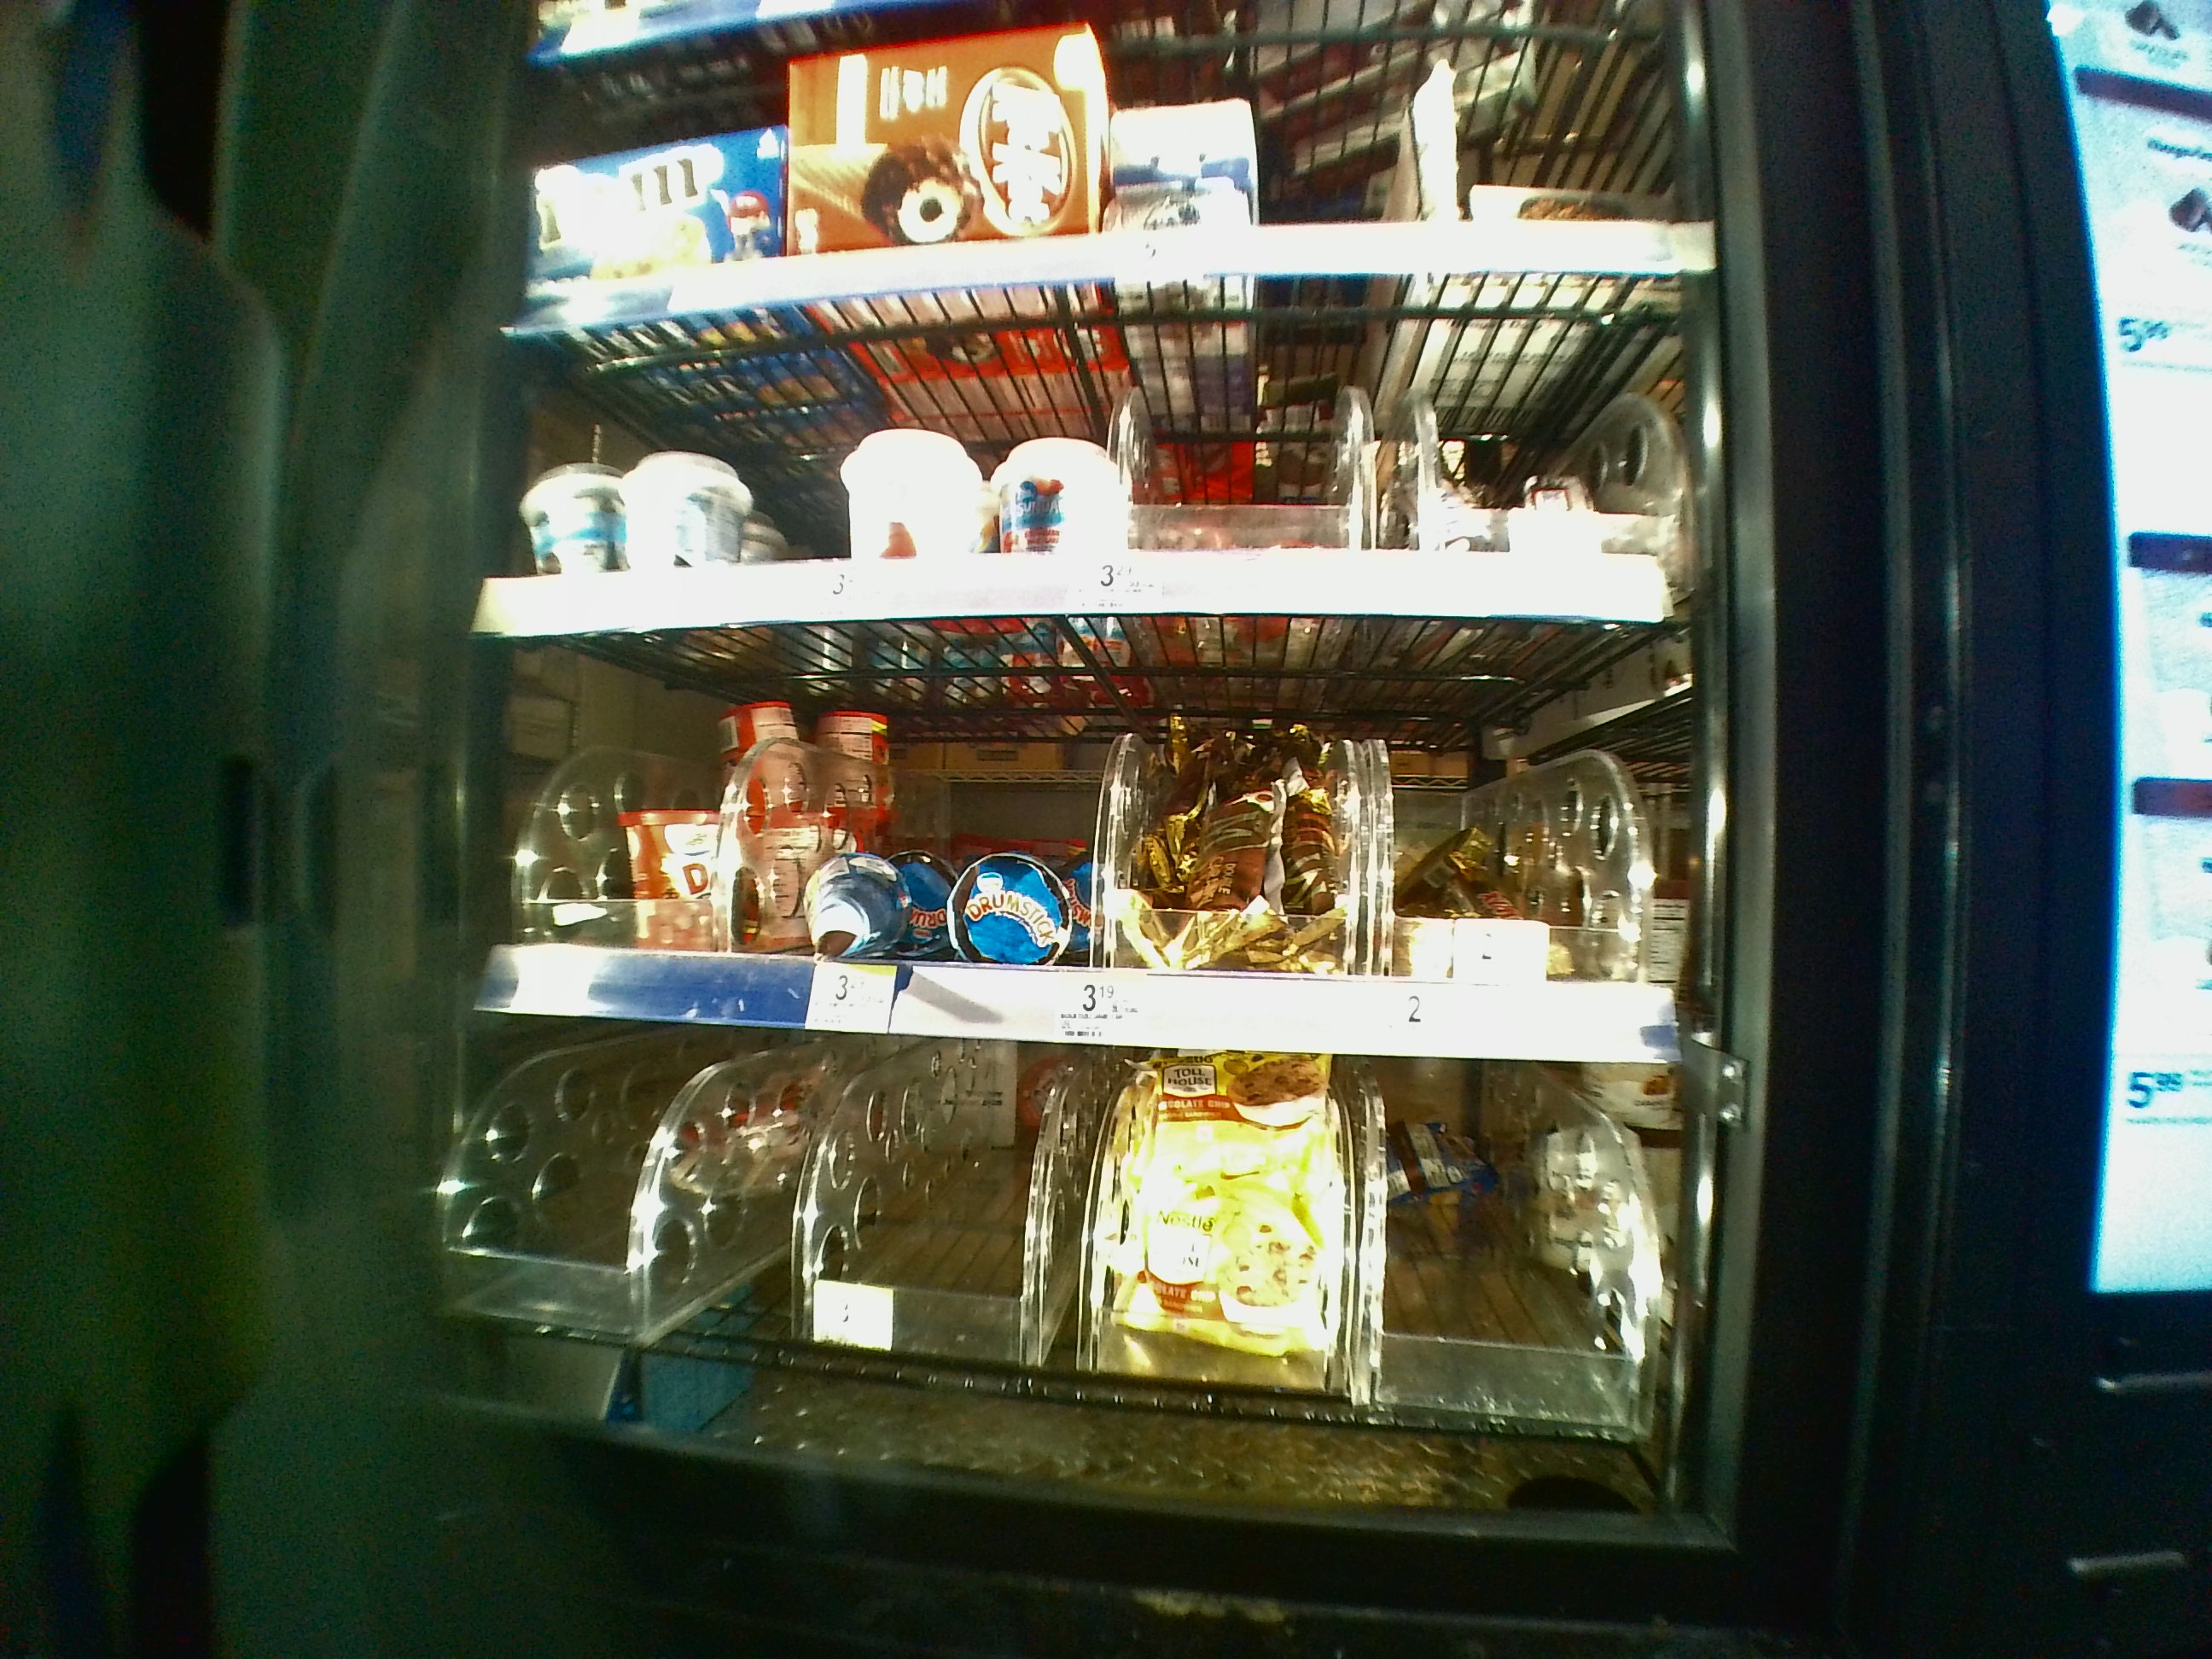shelf: (451, 1063, 1700, 1525), (462, 643, 1695, 1053), (474, 335, 1691, 627)
